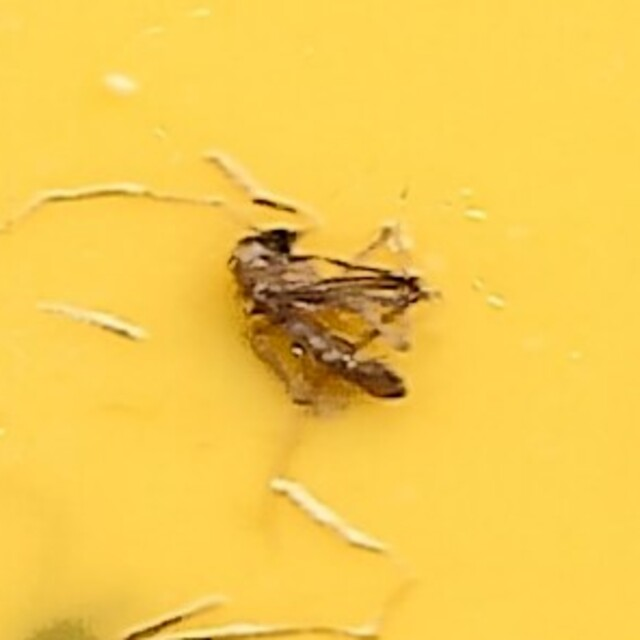Nematocera: (216, 215, 424, 425)
